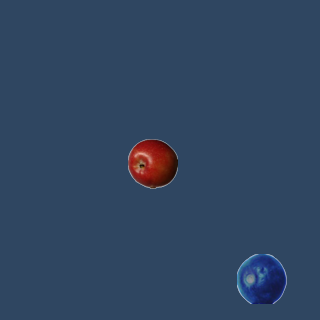Apple Braeburn: (127, 138, 177, 188)
Huckleberry: (236, 253, 286, 303)
